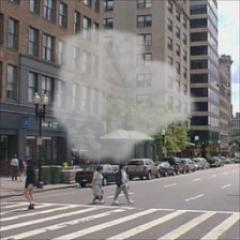smoke: (49, 24, 200, 168)
